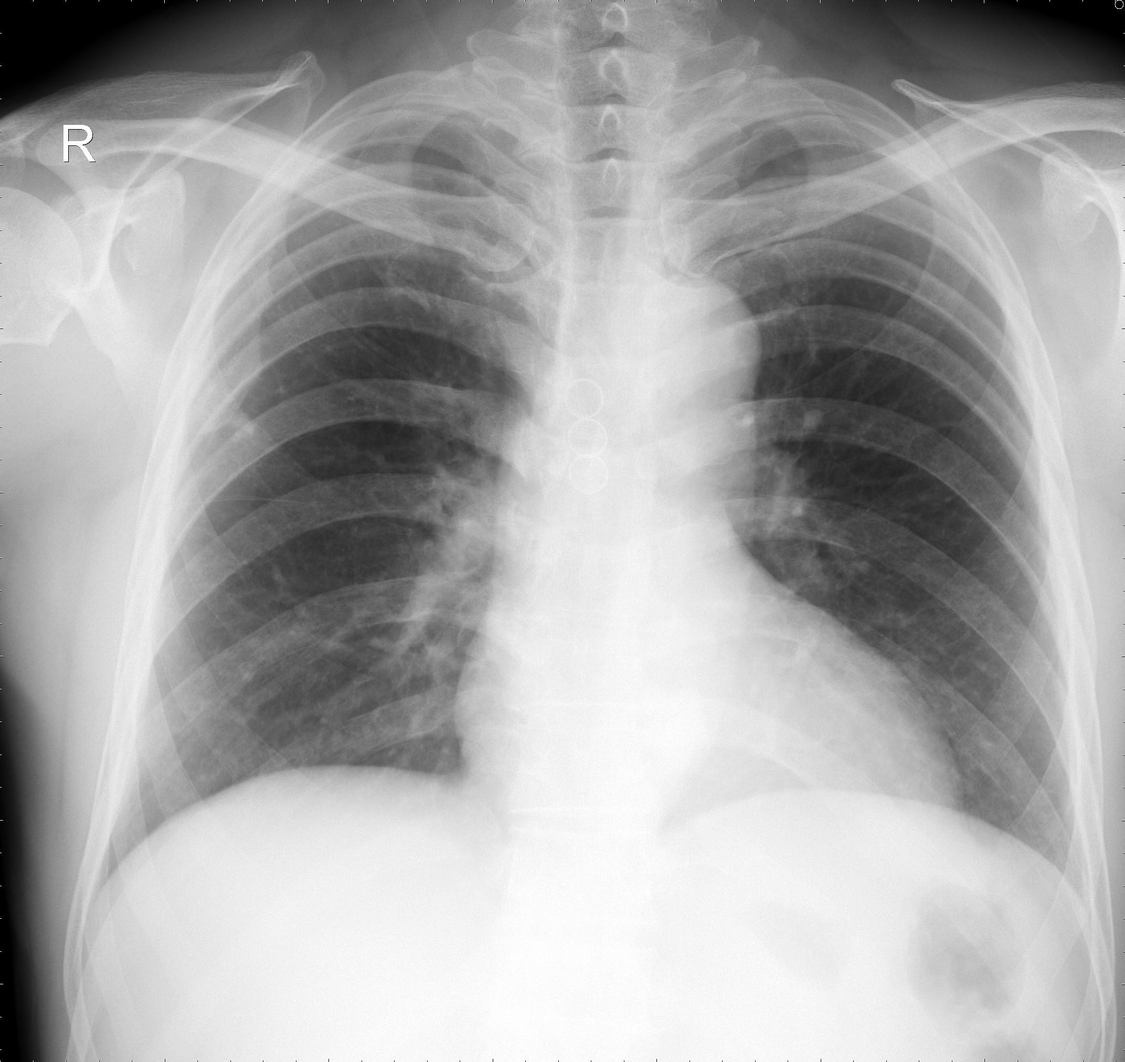Aortic enlargement: (620, 268, 762, 438)
Pulmonary fibrosis: (226, 413, 258, 437)
